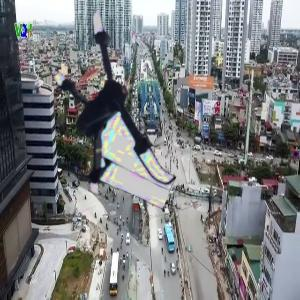drone: (22, 15, 202, 195)
